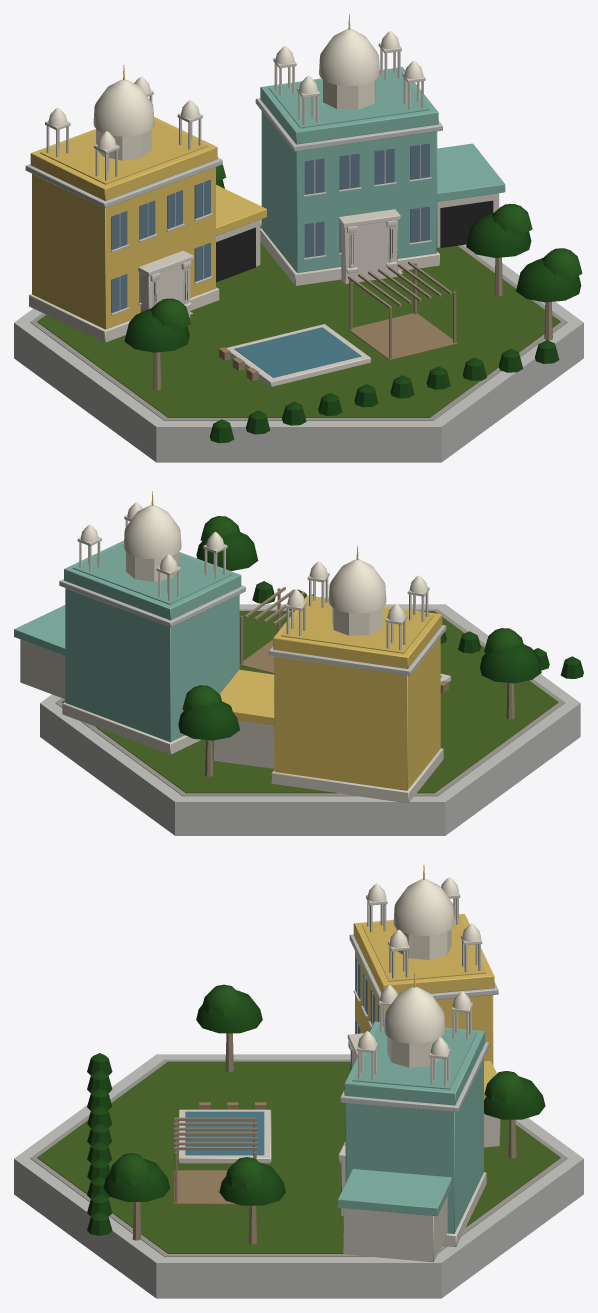
Rendered from luxuryVillas_india.glb.
The picture shows the model from 3 angles, top to bottom: view 1: azimuth 30°, elevation 25°; view 2: azimuth 150°, elevation 25°; view 3: azimuth 270°, elevation 25°; orthographic projection. The views are drawn at different scales.
Parts seen in each view (by area): view 1: plaster, turf, wall_concrete, stone, leaf, glass, wood, dark, pavers, cladding; view 2: plaster, wall_concrete, turf, leaf, stone, cladding, pavers, wood; view 3: plaster, turf, wall_concrete, leaf, wood, stone, cladding, pavers, glass.
Boxes of the visible parts, bbox=[...] form: plaster: bbox=[30, 29, 505, 329]; turf: bbox=[37, 225, 560, 417]; wall_concrete: bbox=[14, 98, 583, 462]; stone: bbox=[29, 43, 439, 386]; leaf: bbox=[124, 157, 582, 443]; glass: bbox=[111, 143, 429, 377]; wood: bbox=[152, 257, 552, 390]; dark: bbox=[154, 200, 493, 305]; pavers: bbox=[30, 223, 567, 420]; cladding: bbox=[216, 193, 499, 266]; plaster: bbox=[14, 502, 442, 790]; wall_concrete: bbox=[40, 579, 580, 835]; turf: bbox=[62, 611, 558, 793]; leaf: bbox=[178, 516, 583, 740]; stone: bbox=[62, 515, 450, 803]; cladding: bbox=[20, 639, 274, 768]; pavers: bbox=[55, 609, 565, 796]; wood: bbox=[205, 587, 514, 776]; plaster: bbox=[337, 877, 496, 1233]; turf: bbox=[37, 1061, 560, 1253]; wall_concrete: bbox=[14, 934, 583, 1298]; leaf: bbox=[87, 984, 545, 1235]; wood: bbox=[132, 1033, 516, 1244]; stone: bbox=[178, 892, 486, 1246]; cladding: bbox=[343, 1113, 500, 1261]; pavers: bbox=[30, 1059, 567, 1256]; glass: bbox=[185, 957, 379, 1155].
Bounding box in the file's own units: 22.78 × 13.1 × 24.6.
